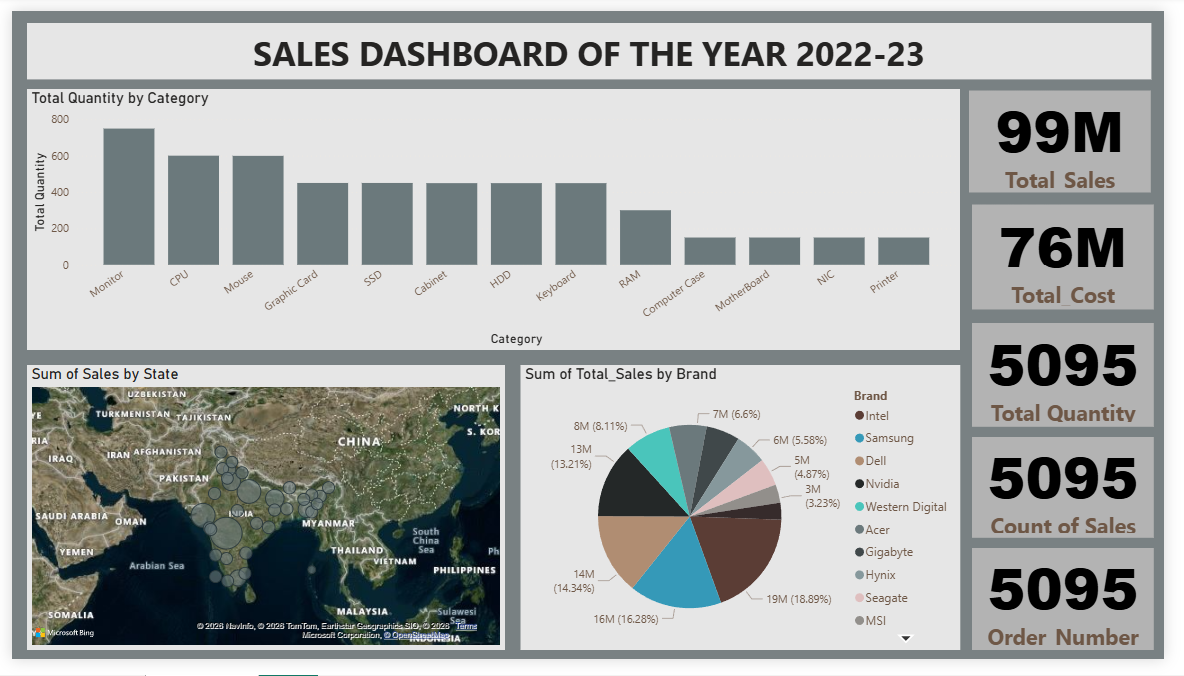

What the dashboard file says about the page in this screenshot:
{"tool":"powerbi","page":{"name":"Page 1","canvas":[1280,720],"ordinal":0},"visuals":[{"type":"textbox","box":[17,13.2,1249.1,62.4],"z":0},{"type":"card","fields":{"Values":["Sum(Sales_Data.Total_Sales)"]},"box":[1063.3,88.3,201.7,113.3],"z":1000},{"type":"card","fields":{"Values":["Sum(Sales_Data.Total_Cost)"]},"box":[1066.7,215,201.7,116.7],"z":2000},{"type":"card","fields":{"Values":["CountNonNull(Sales_Data.Quantity)"]},"box":[1066.7,346.7,201.7,115],"z":3000},{"type":"card","fields":{"Values":["CountNonNull(Sales_Data.Sales)"]},"box":[1066.7,473.3,201.7,111.7],"z":4000},{"type":"card","fields":{"Values":["Count(Sales_Data.Order_Number)"]},"box":[1066.7,596.7,201.7,113.3],"z":5000},{"type":"clusteredColumnChart","fields":{"Y":["CountNonNull(Sales_Data.Quantity)"],"Category":["Sales_Data.Category"]},"box":[16.7,86.7,1036.7,290],"z":6000},{"type":"pieChart","fields":{"Category":["Sales_Data.Brand"],"Y":["Sum(Sales_Data.Total_Sales)"]},"box":[565,393.3,488.3,316.7],"z":7000},{"type":"map","fields":{"Category":["State_list.State"],"Size":["Sum(Sales_Data.Sales)"]},"box":[16.7,393.3,530,316.7],"z":8000}]}

Visuals, with their boxes in screenshot pixels (x1, y1, x2, y2), scaled from the page's 1280x720 canvas onto the 1184x676 screenshot:
textbox: region(16, 12, 1171, 71)
card - Sum(Sales_Data.Total_Sales): region(984, 83, 1170, 189)
card - Sum(Sales_Data.Total_Cost): region(987, 202, 1173, 311)
card - CountNonNull(Sales_Data.Quantity): region(987, 326, 1173, 433)
card - CountNonNull(Sales_Data.Sales): region(987, 444, 1173, 549)
card - Count(Sales_Data.Order_Number): region(987, 560, 1173, 667)
clusteredColumnChart - CountNonNull(Sales_Data.Quantity) x Sales_Data.Category: region(15, 81, 974, 354)
pieChart - Sales_Data.Brand x Sum(Sales_Data.Total_Sales): region(523, 369, 974, 667)
map - State_list.State x Sum(Sales_Data.Sales): region(15, 369, 506, 667)
